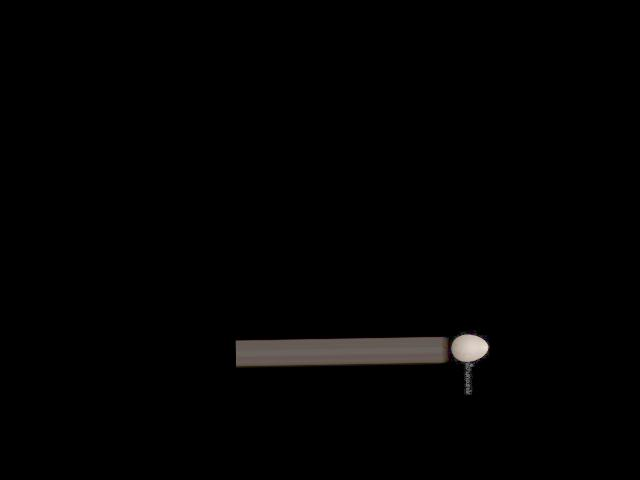egg: (450, 333, 488, 361)
